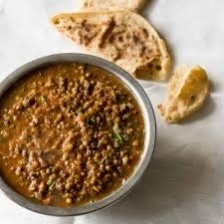roti: (38, 0, 173, 82)
